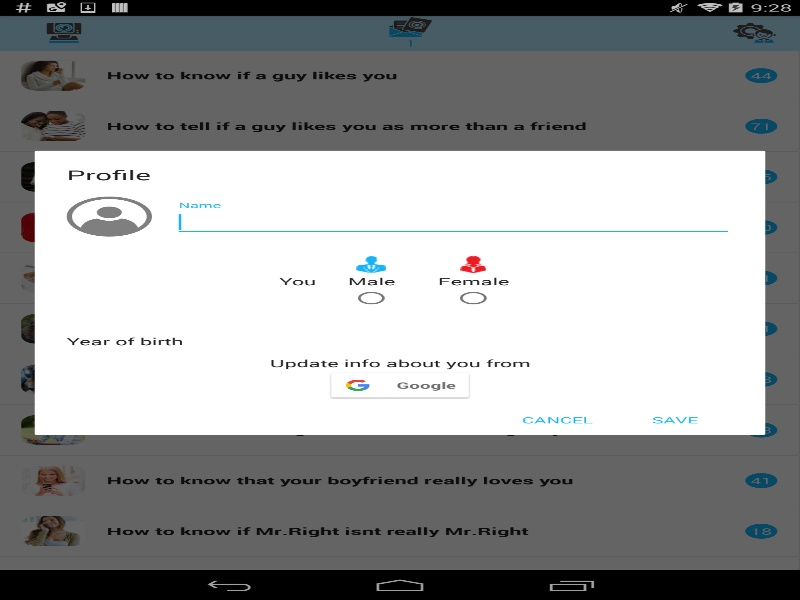Button: (184, 326, 733, 356), (326, 370, 474, 400), (498, 405, 616, 435), (616, 405, 733, 435)
Input: (173, 208, 733, 236)
